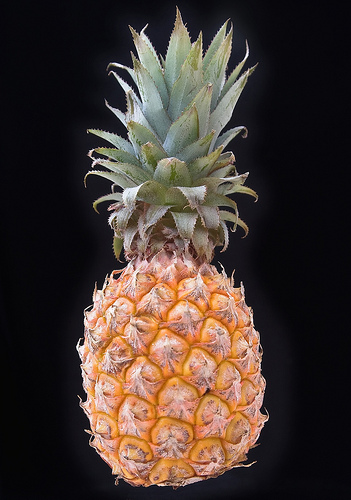pineapple: (73, 3, 272, 488)
